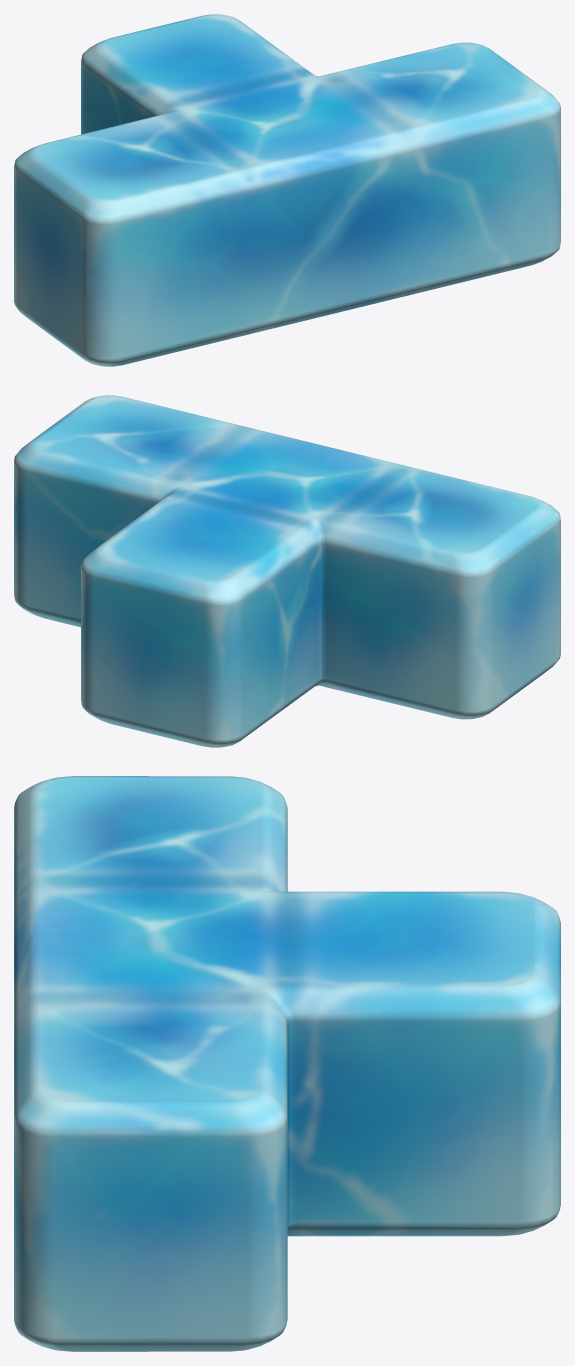
Rendered from Ice_Block_05.fbx.
3 renders of one model, top to bottom at view 1: azimuth 30°, elevation 25°; view 2: azimuth 150°, elevation 25°; view 3: azimuth 270°, elevation 25°, orthographic. The views are drawn at different scales.
Visible parts, largest first — view 1: Ice_Block_05; view 2: Ice_Block_05; view 3: Ice_Block_05.
Boxes of the visible parts, bbox=[...] form: Ice_Block_05: bbox=[14, 14, 560, 366]; Ice_Block_05: bbox=[14, 395, 560, 747]; Ice_Block_05: bbox=[14, 776, 560, 1351].
Size of the model in its own units: 3 by 1 by 2.
Materials: 1 (1 with a texture image).
